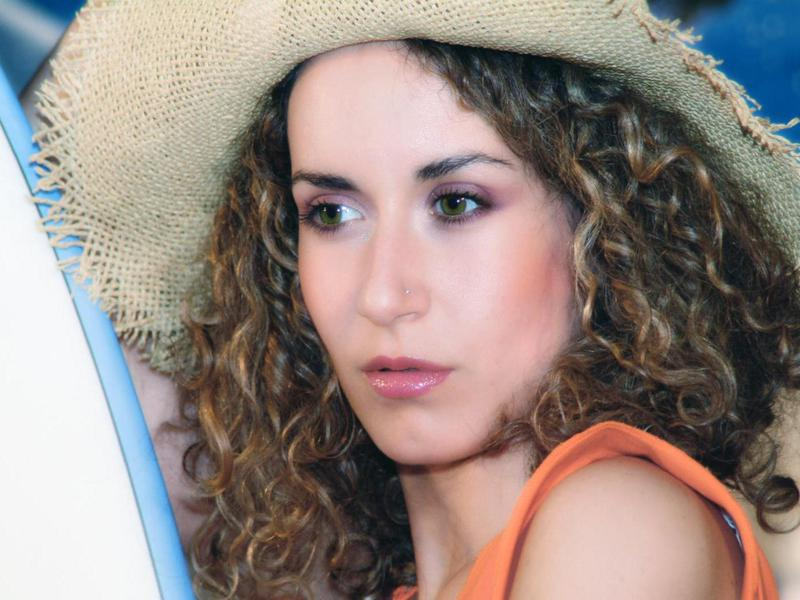person: (50, 3, 790, 600)
